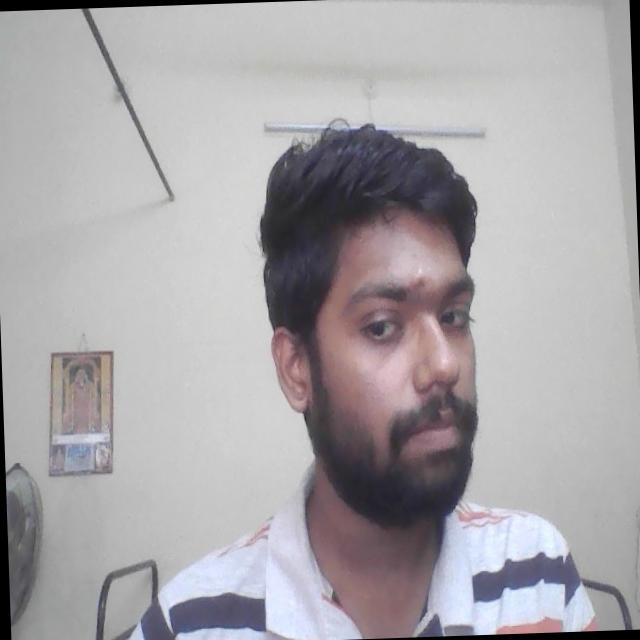Focused: (288, 222, 484, 494)
